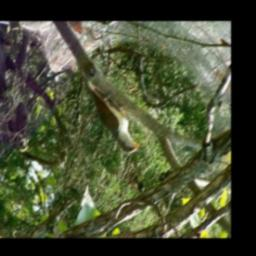Cuckoo: (76, 63, 142, 156)
